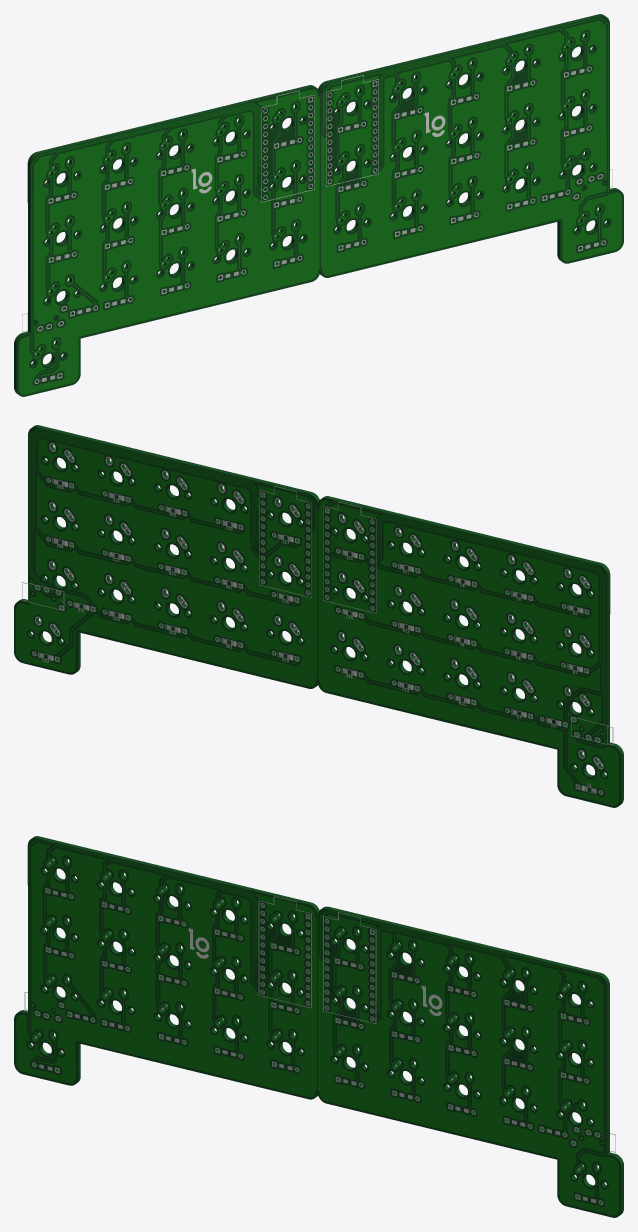
The model's file is splitty.fbx.
The picture shows the model from 3 angles, top to bottom: view 1: azimuth 30°, elevation 25°; view 2: azimuth 150°, elevation 25°; view 3: azimuth 330°, elevation 25°; orthographic projection.
Visible parts, largest first — view 1: TXFM_3, TXFM_2, TXFM_4, TXFM_7; view 2: TXFM_5, TXFM_2, TXFM_6, TXFM_8; view 3: TXFM_3, TXFM_2, TXFM_4, TXFM_7.
Part boxes in pixels (bbox=[...]): TXFM_3: bbox=[19, 17, 621, 394]; TXFM_2: bbox=[14, 14, 623, 396]; TXFM_4: bbox=[34, 66, 605, 383]; TXFM_7: bbox=[191, 75, 445, 202]; TXFM_5: bbox=[16, 428, 618, 805]; TXFM_2: bbox=[14, 425, 623, 807]; TXFM_6: bbox=[32, 443, 603, 794]; TXFM_8: bbox=[22, 478, 613, 793]; TXFM_3: bbox=[16, 839, 618, 1215]; TXFM_2: bbox=[14, 836, 623, 1217]; TXFM_4: bbox=[32, 888, 603, 1205]; TXFM_7: bbox=[188, 896, 442, 1023].
Bounding box in the file's own units: 205022 × 77396 × 1700.
